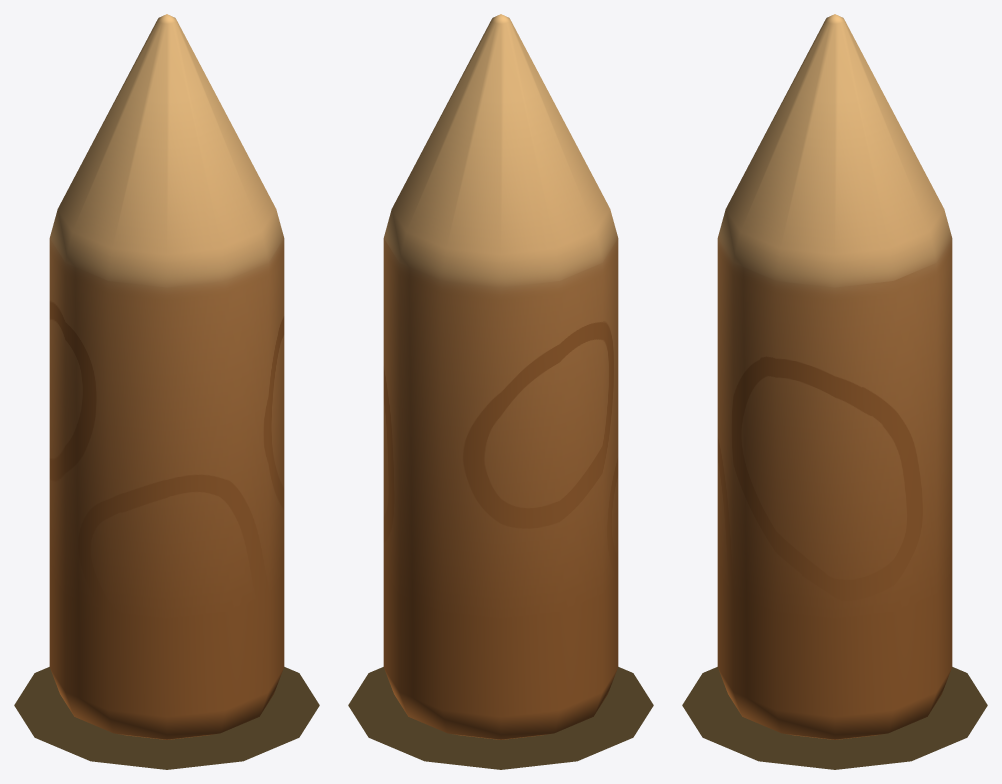
Rendered from WoodFence.fbx.
The picture shows the model from 3 angles, left to right: view 1: azimuth 30°, elevation 25°; view 2: azimuth 150°, elevation 25°; view 3: azimuth 270°, elevation 25°; orthographic projection.
Parts seen in each view (by area): view 1: pCylinder73, polySurface79; view 2: pCylinder73, polySurface79; view 3: pCylinder73, polySurface79.
Boxes of the visible parts, x1,y1,x2,y2 form: pCylinder73: [49, 14, 284, 739]; polySurface79: [14, 667, 319, 769]; pCylinder73: [383, 14, 618, 739]; polySurface79: [348, 667, 653, 769]; pCylinder73: [717, 14, 952, 739]; polySurface79: [682, 667, 987, 769].
Bounding box in the file's own units: 65.2 × 163 × 65.2.
